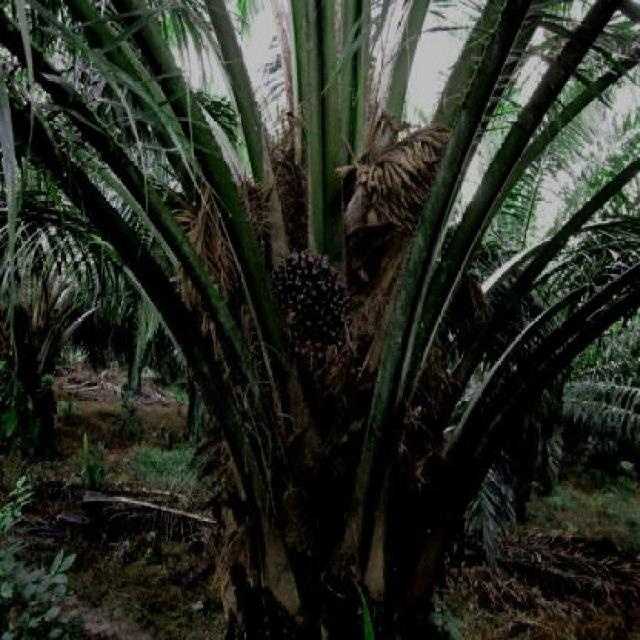palm-oil: (257, 237, 364, 360)
